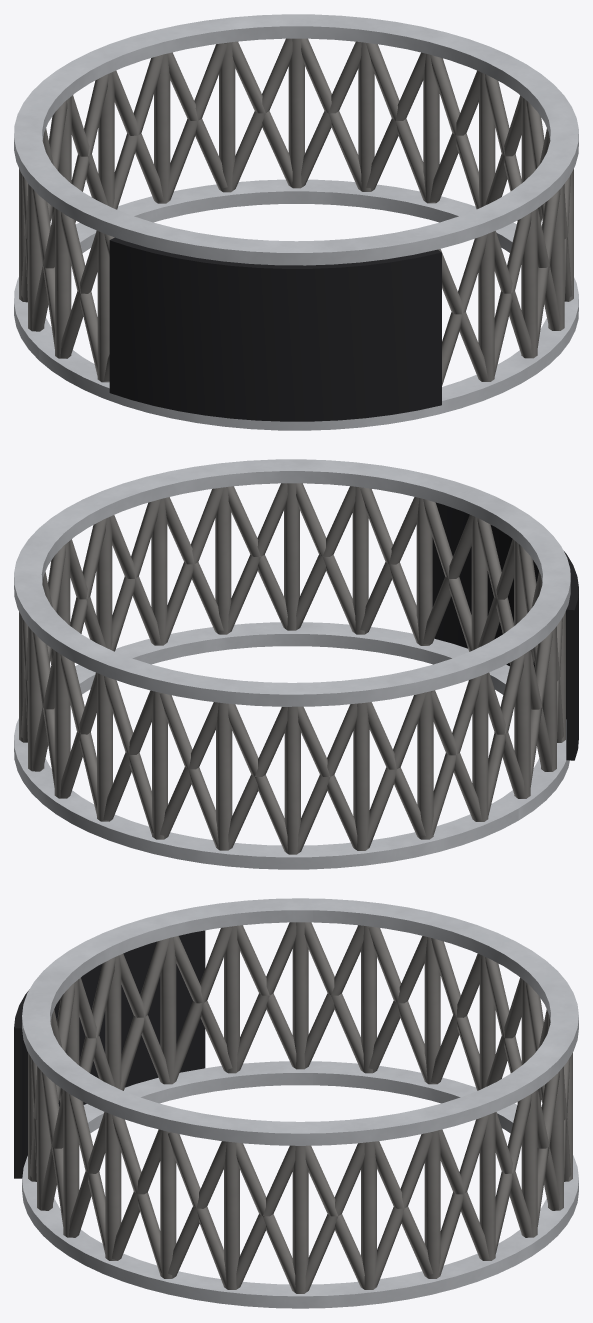
File: stage02_hotstage_ring_l.glb
3 renders of one model, top to bottom at view 1: azimuth 30°, elevation 25°; view 2: azimuth 150°, elevation 25°; view 3: azimuth 270°, elevation 25°, orthographic.
Parts seen in each view (by area): view 1: vent_lattice, flanges, shield_panel; view 2: vent_lattice, flanges, shield_panel; view 3: vent_lattice, flanges, shield_panel.
Part boxes in pixels (x1,y1,x2,y2): vent_lattice: (19,38,573,385); flanges: (14,14,578,430); shield_panel: (109,237,441,421); vent_lattice: (19,483,565,854); flanges: (14,459,570,869); shield_panel: (432,502,578,760); vent_lattice: (28,922,572,1293); flanges: (22,898,578,1308); shield_panel: (14,930,205,1178).
Bounding box in the file's own units: 3.75 × 1.3 × 3.8.
3 materials, 2 textured.
